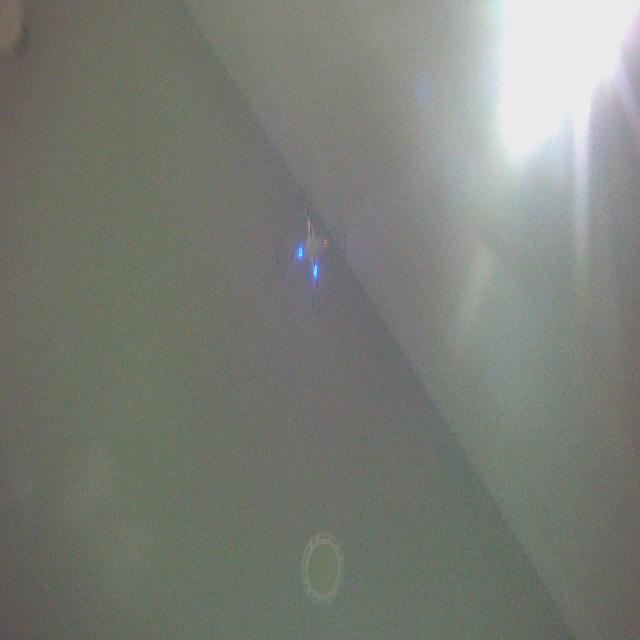drone: (274, 188, 348, 316)
